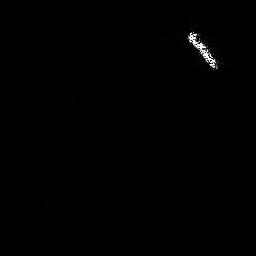ship: (184, 29, 221, 72)
